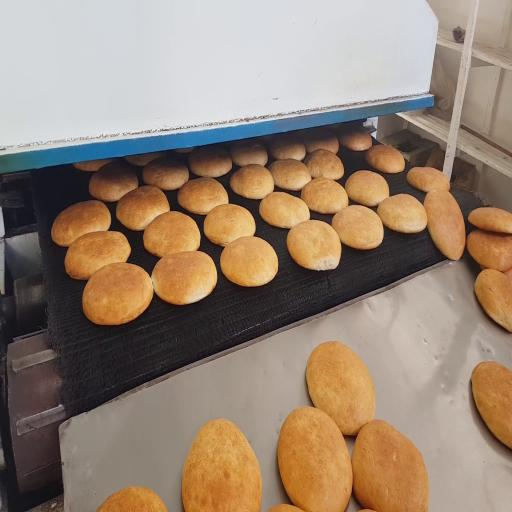bread: (278, 407, 352, 511), (182, 420, 262, 511), (352, 420, 429, 511), (306, 341, 375, 435), (83, 263, 153, 325), (151, 251, 217, 305), (472, 362, 511, 448), (65, 231, 130, 279), (424, 188, 465, 260), (220, 237, 278, 286), (51, 201, 111, 246), (287, 220, 341, 270), (143, 211, 200, 257), (116, 186, 169, 230), (475, 269, 511, 332), (332, 205, 383, 249), (204, 204, 255, 246), (89, 162, 138, 201), (378, 194, 427, 233), (467, 229, 511, 272), (178, 178, 228, 215), (259, 192, 309, 228), (301, 177, 348, 214), (97, 487, 166, 511), (345, 170, 389, 207), (230, 164, 274, 199), (143, 157, 189, 190), (268, 159, 311, 191), (189, 146, 232, 177), (305, 149, 344, 180), (407, 167, 450, 192), (468, 208, 511, 233), (366, 145, 404, 173), (230, 139, 267, 166), (269, 134, 305, 160), (304, 130, 338, 154), (339, 130, 372, 151), (125, 151, 167, 167), (73, 159, 112, 172), (268, 504, 301, 511), (174, 147, 193, 153), (504, 269, 511, 278)
